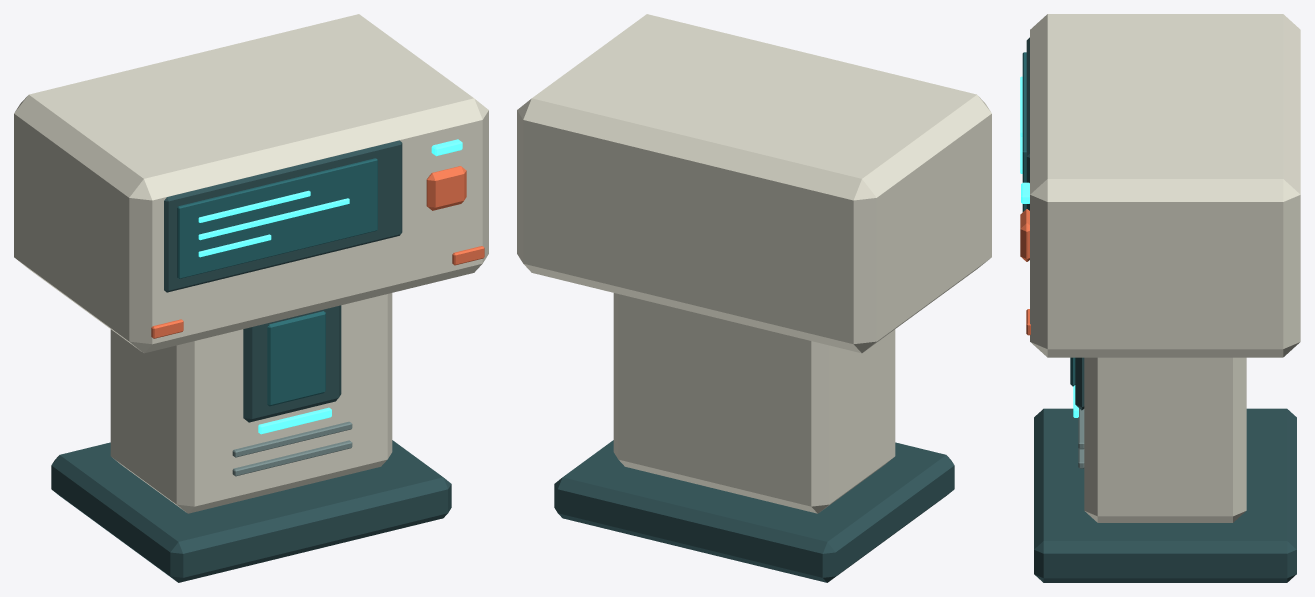
Rendered from relay_console.glb.
3 renders of one model, left to right at view 1: azimuth 30°, elevation 25°; view 2: azimuth 150°, elevation 25°; view 3: azimuth 270°, elevation 25°, orthographic. The views are drawn at different scales.
Parts seen in each view (by area): view 1: relay_console; view 2: relay_console; view 3: relay_console.
Part boxes in pixels (x1,y1,x2,y2): relay_console: [14, 14, 488, 582]; relay_console: [517, 14, 991, 582]; relay_console: [1020, 14, 1300, 582].
Size of the model in its own units: 1.1 by 1.2 by 0.7255.
